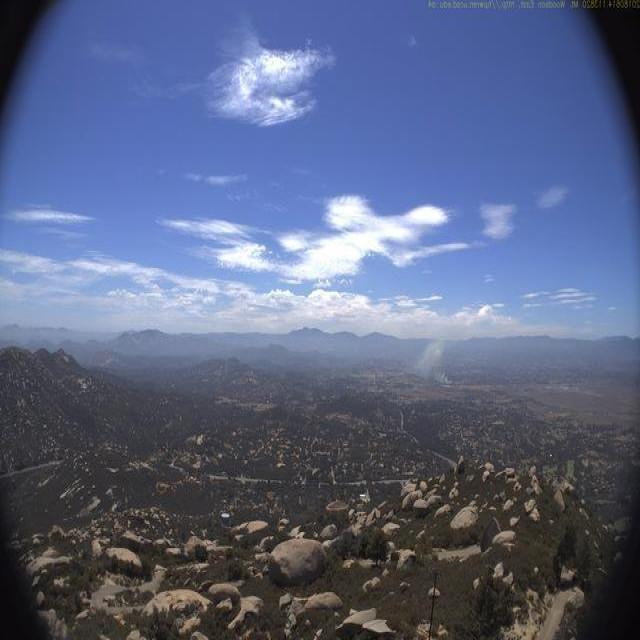Smoke: (406, 323, 457, 388)
